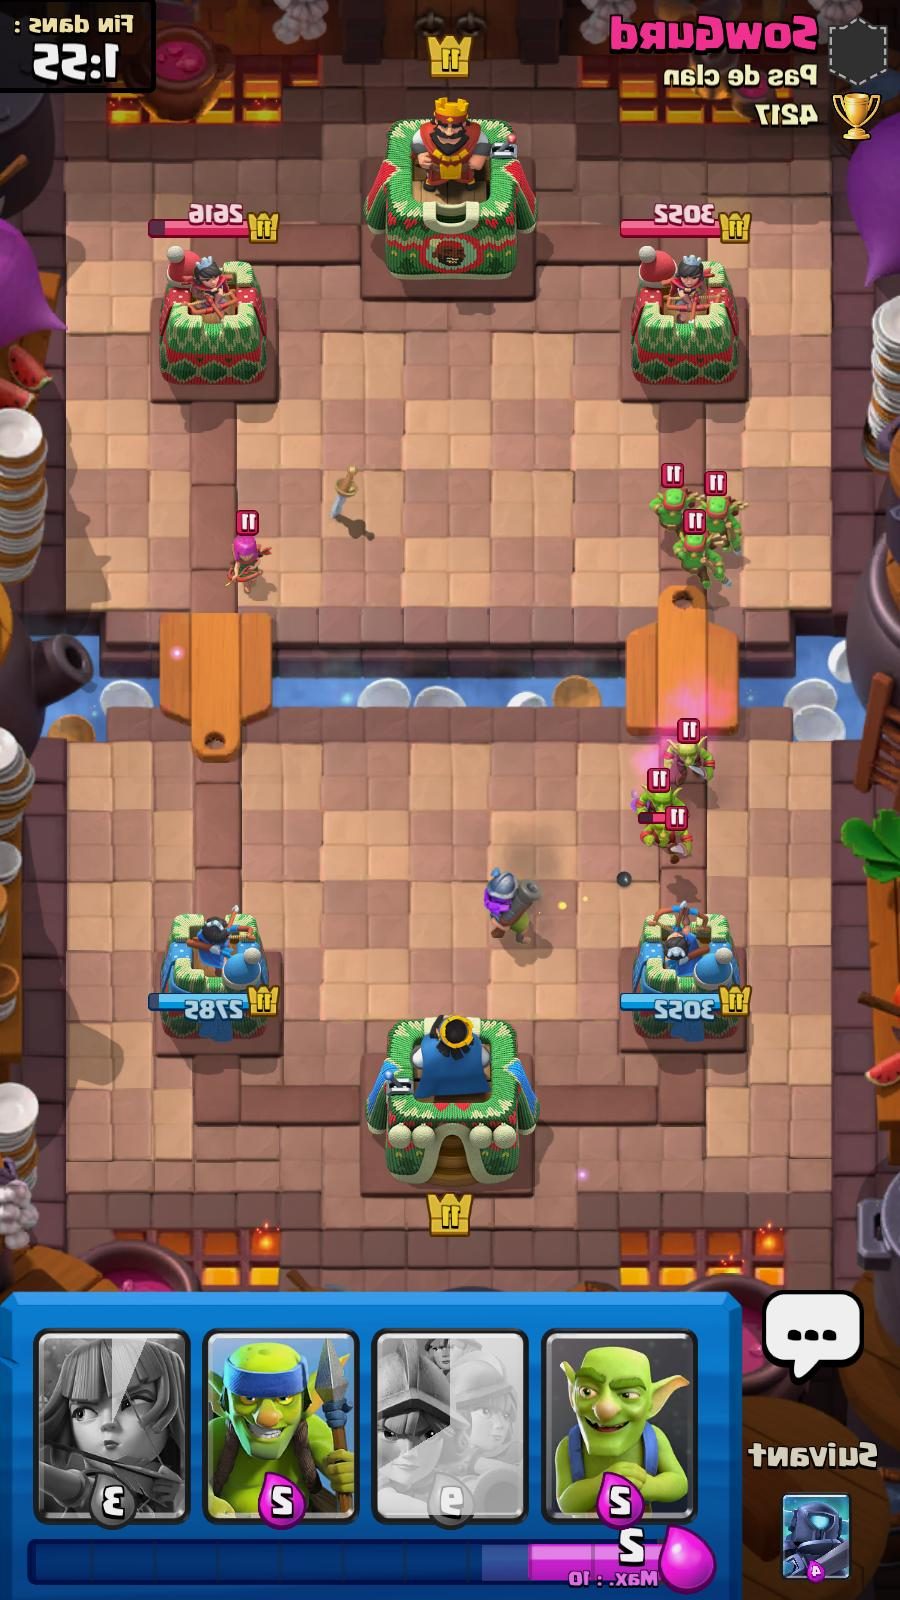archere: (226, 509, 270, 597)
gobelin: (660, 711, 714, 795), (636, 763, 681, 835), (643, 808, 689, 866)
gobelin_lances: (671, 503, 721, 597), (692, 463, 737, 554), (652, 459, 696, 544)
mousquetaire: (486, 859, 538, 946)
